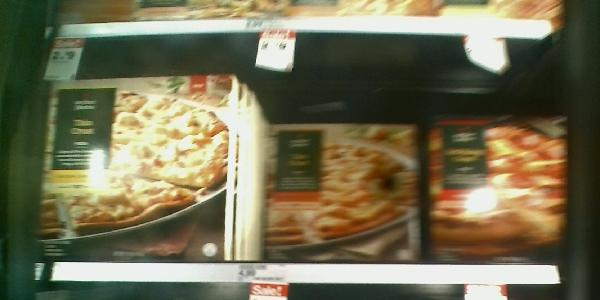pizza: (36, 77, 232, 260), (264, 126, 419, 268), (430, 120, 576, 263)
